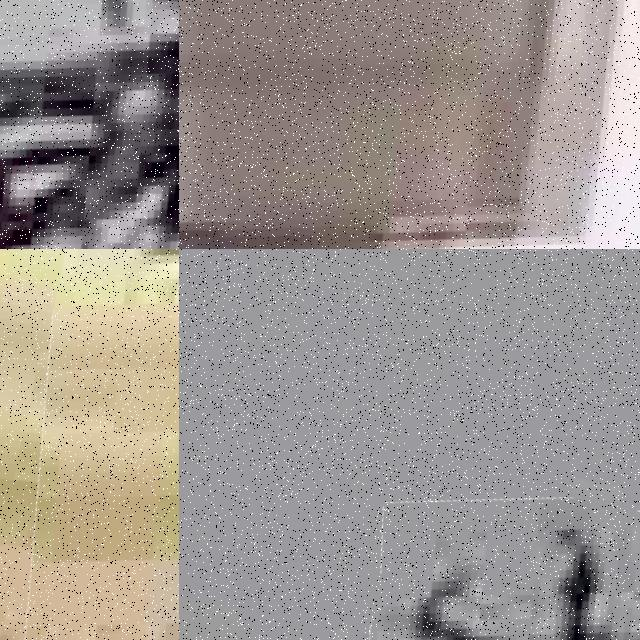0: (0, 249, 179, 640), (335, 461, 640, 640), (0, 0, 179, 249)
drone: (179, 0, 640, 249)
